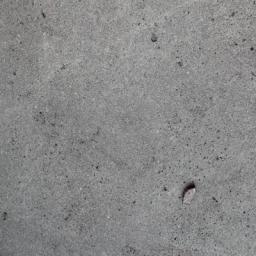FOD: (180, 181, 200, 211)
